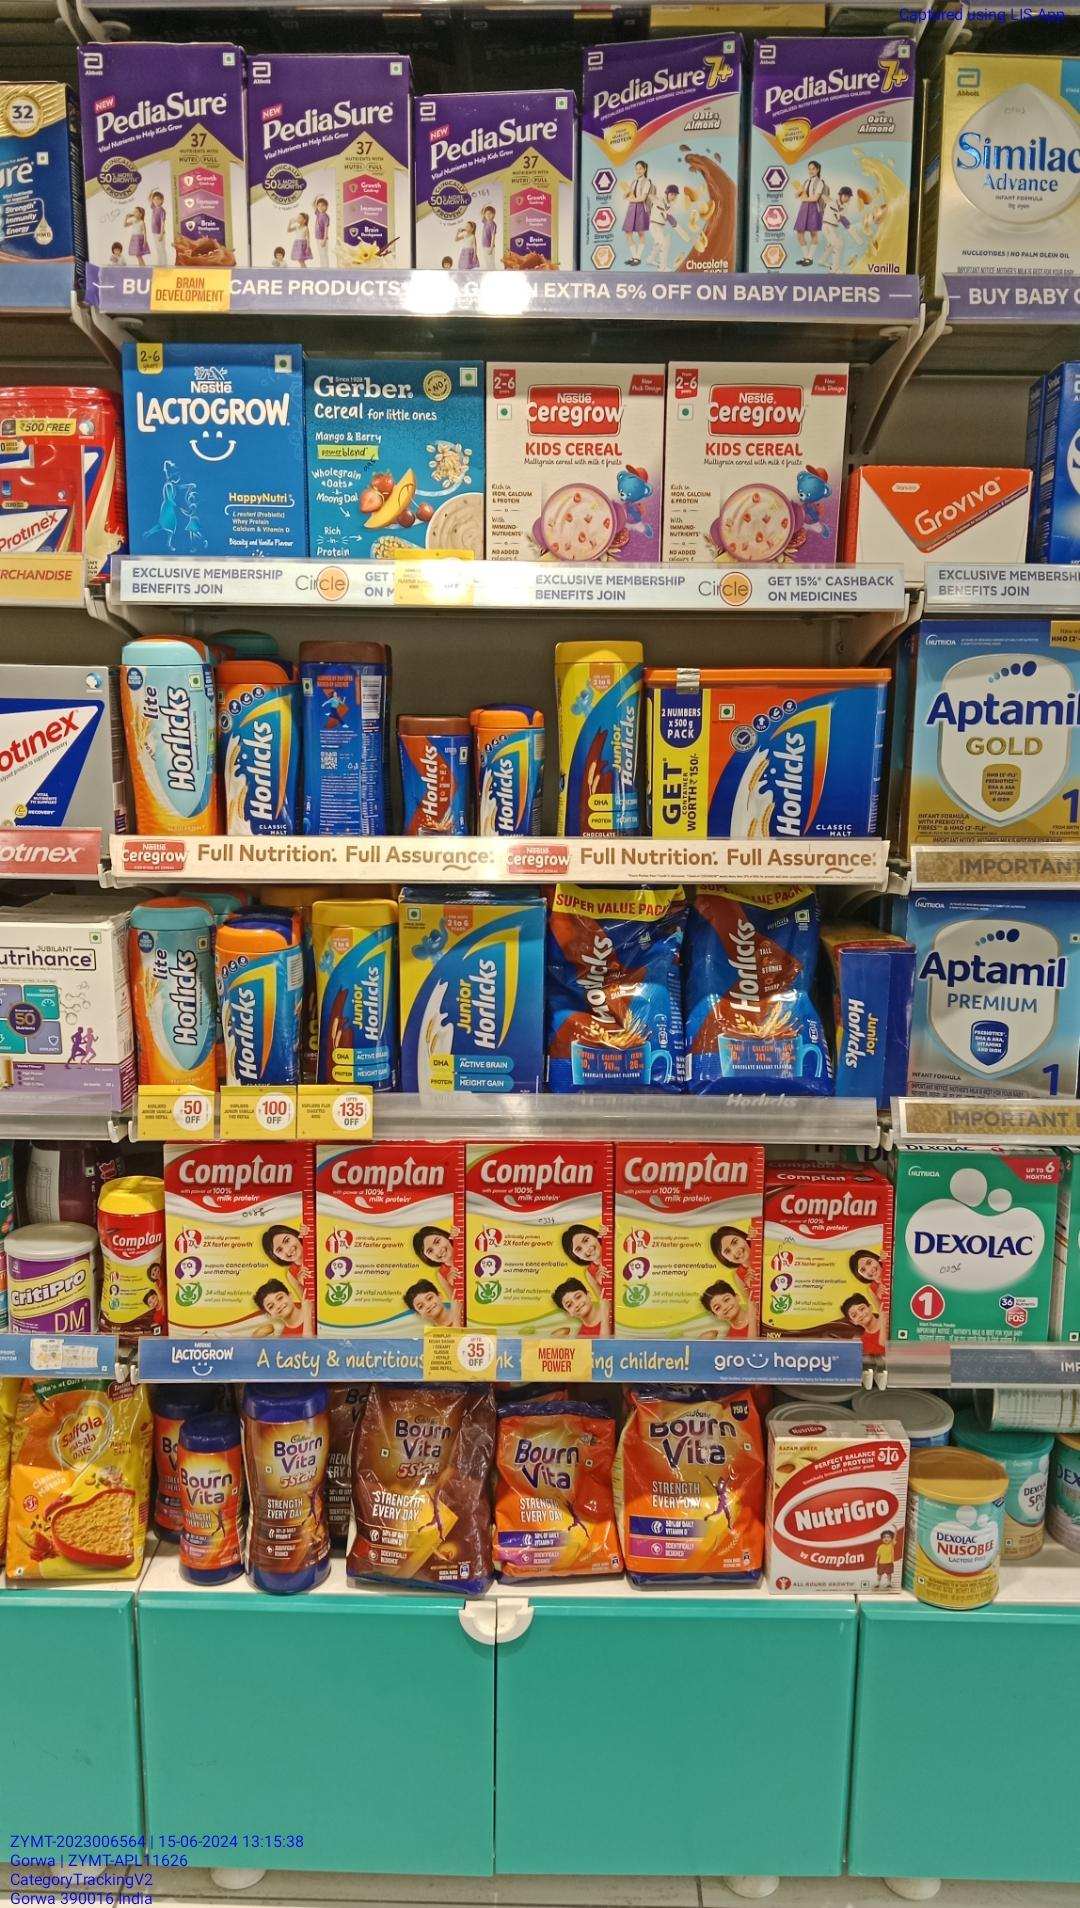BOURN_VITA_200_G_JAR: (177, 1428, 245, 1586)
BOURN_VITA_500_G_POUCH: (497, 1407, 619, 1576)
BOURN_VITA_750_G_POUCH: (625, 1396, 762, 1587)
BOURN_VITA_FIVE_STAR_MAGIC_500_G_JAR: (250, 1388, 330, 1595)
BOURN_VITA_FIVE_STAR_MAGIC_500_G_POUCH: (349, 1384, 486, 1591)
COMPLAN_CHOCOLATE_200_GMS_JAR: (98, 1189, 164, 1337)
COMPLAN_CHOCOLATE_200_GMS_PACK: (765, 1185, 890, 1337)
COMPLAN_CREAMY_CLASSIC_500_G_PACK: (317, 1145, 465, 1330)
COMPLAN_KESAR_BADAM_500_GMS_PACK: (168, 1149, 311, 1335)
COMPLAN_PISTA_BADAM_500_GMS_PACK: (617, 1145, 759, 1342), (471, 1144, 612, 1334)
HORLICKS_JUNIOR_VANILLA_500_GM_JAR: (557, 641, 640, 837)
HORLICKS_LITE_REGULAR_MALT_500_GM_JAR: (127, 638, 214, 837)
HORLICK_CHOCOLATE_200_G_JAR: (400, 714, 467, 843)
HORLICK_CHOCOLATE_750_G_POUCH: (552, 883, 689, 1098), (697, 885, 835, 1092)
HORLICK_CLASSIC_MALT_200_G_JAR: (474, 706, 545, 836)
HORLICK_CLASSIC_MALT_500_G_JAR: (222, 660, 296, 833), (220, 930, 300, 1084)
HORLICK_MALT_1_KG_CONTAINER: (647, 668, 889, 835), (134, 911, 216, 1092)
PEDIASURE_7_PLUS_CHOCOLATE_400_G_PACK: (583, 46, 735, 269)
PEDIASURE_CHOCOLATE_500_G_PACK: (83, 46, 240, 269)
PEDIASURE_VANILLA_500_G_PACK: (254, 55, 413, 269)
